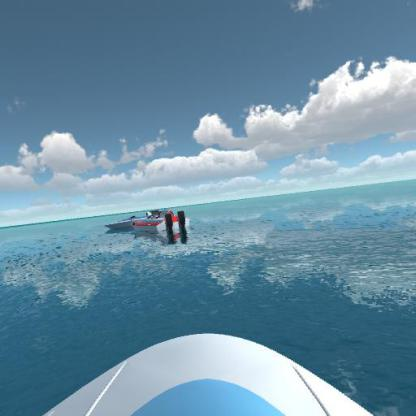usv1: (106, 210, 162, 232)
usv3: (127, 208, 193, 242)
